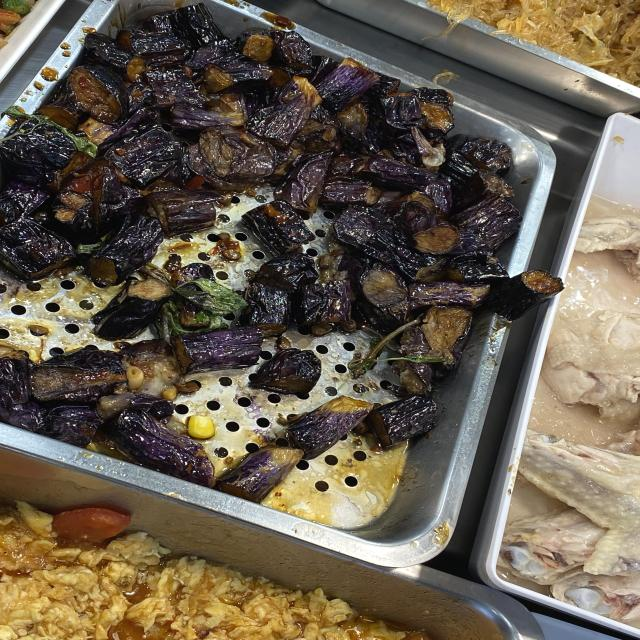eggplant: (69, 60, 308, 186)
